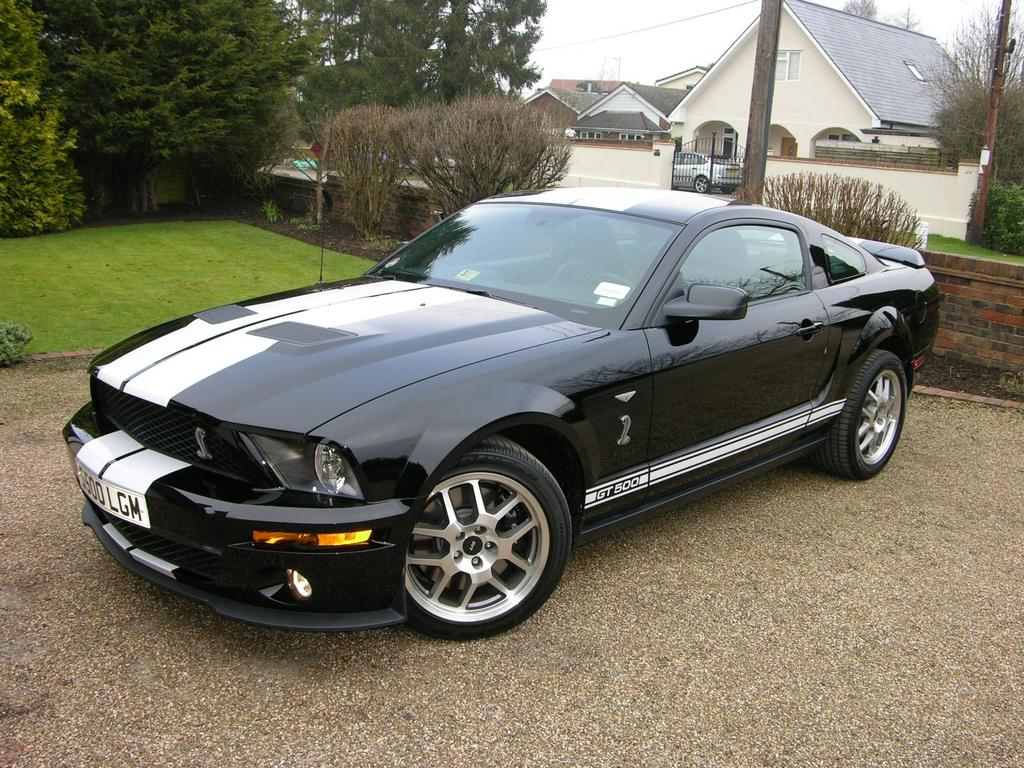Tree: (30, 0, 324, 218), (275, 0, 551, 188), (0, 0, 80, 234)
